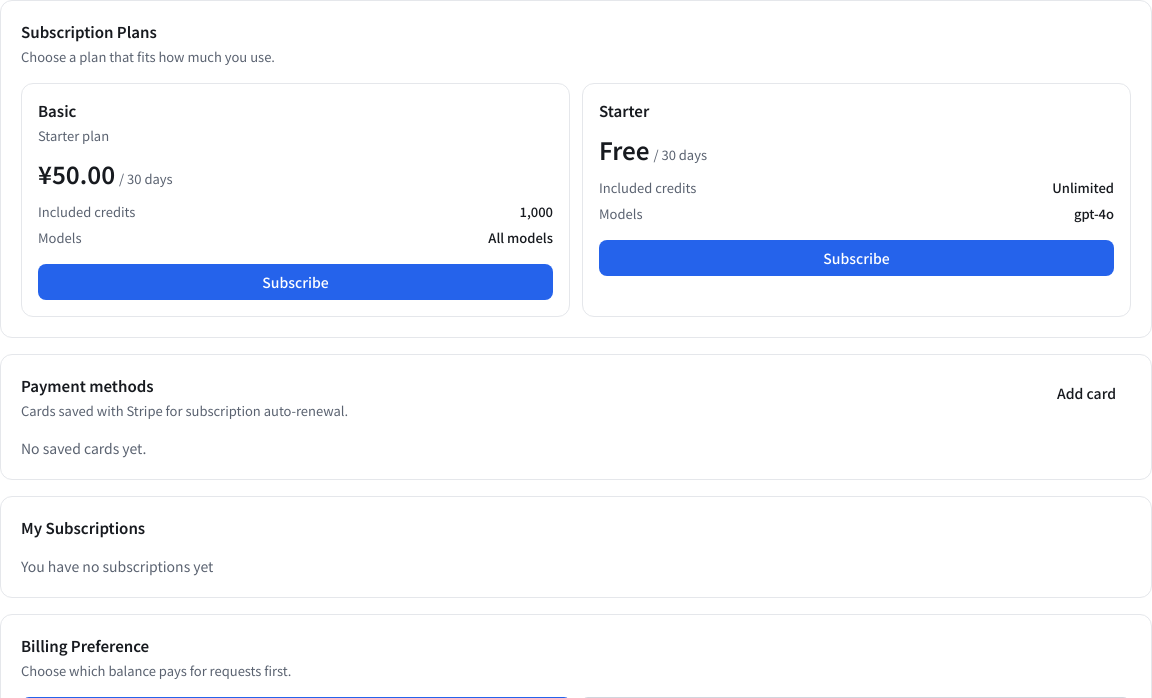
Test: SubscriptionSection › renders the rate-limit message inline on 429
Click the button with aria-label "Subscribe Basic" at (296, 282), box 38,264 -> 553,300
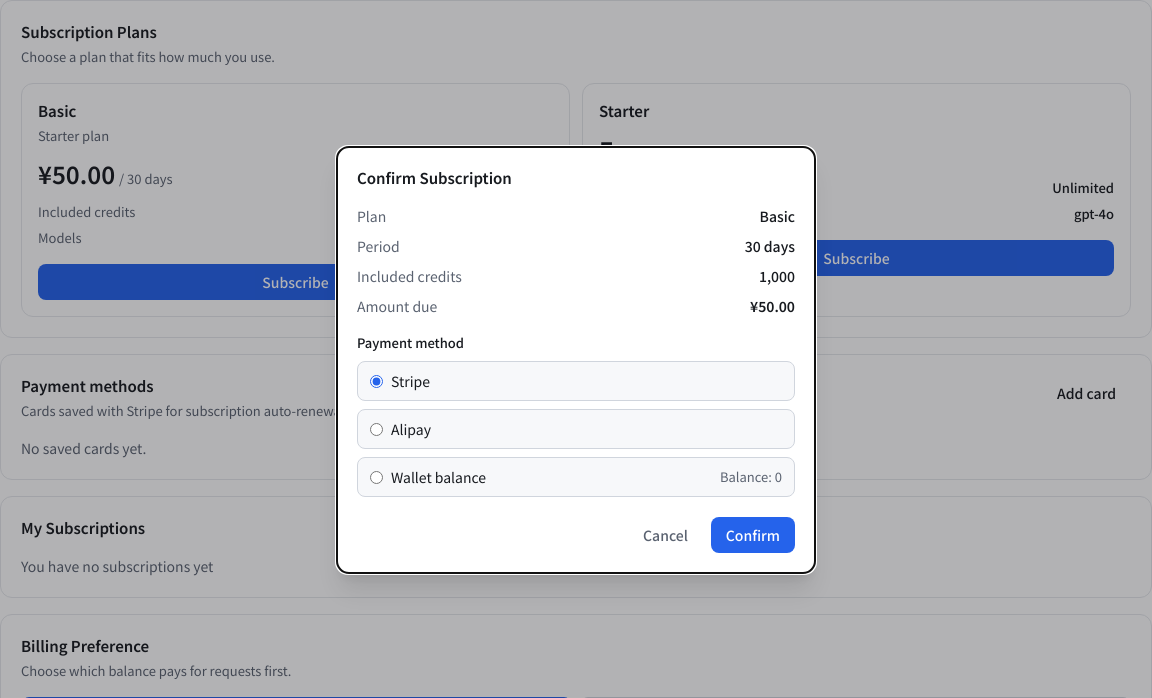
Expected: the radio button labelled "Stripe" is shown, 370,374 -> 383,388
Click the button "Confirm" at (753, 535), box 711,517 -> 795,553
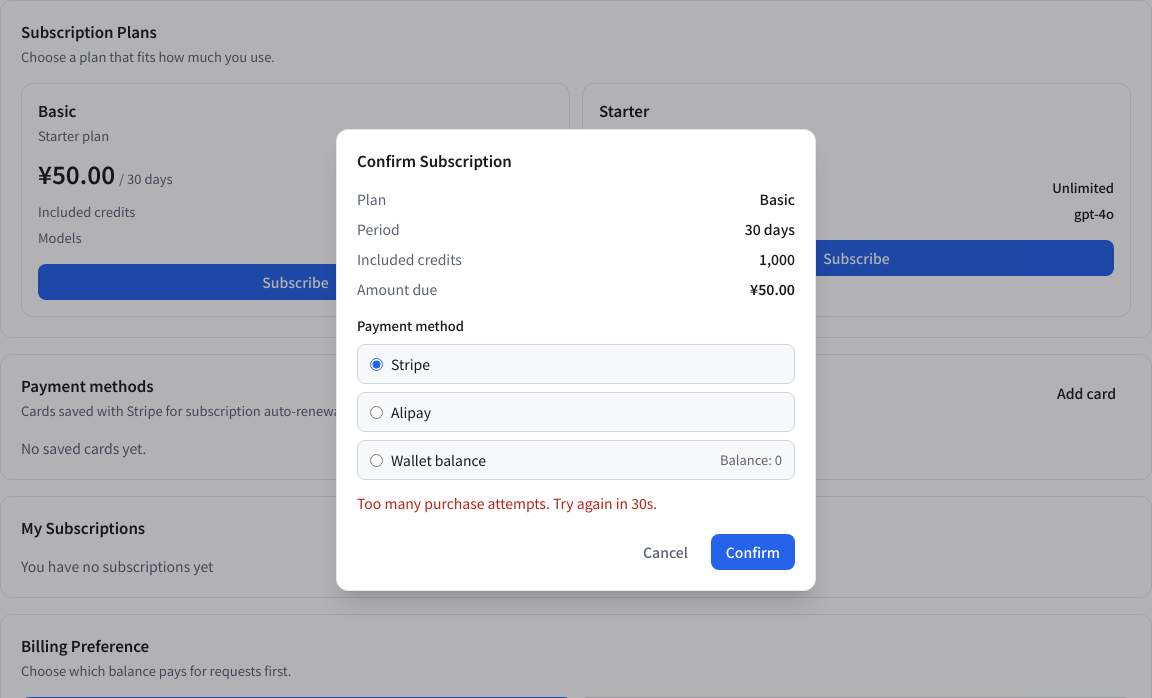
Expected: the dialog is shown, 336,129 -> 816,591
Expected: the button "Confirm" is enabled, 711,534 -> 795,570
Expected: the message reads "Too many purchase attempts. Try again in 30s.", 357,493 -> 657,513
